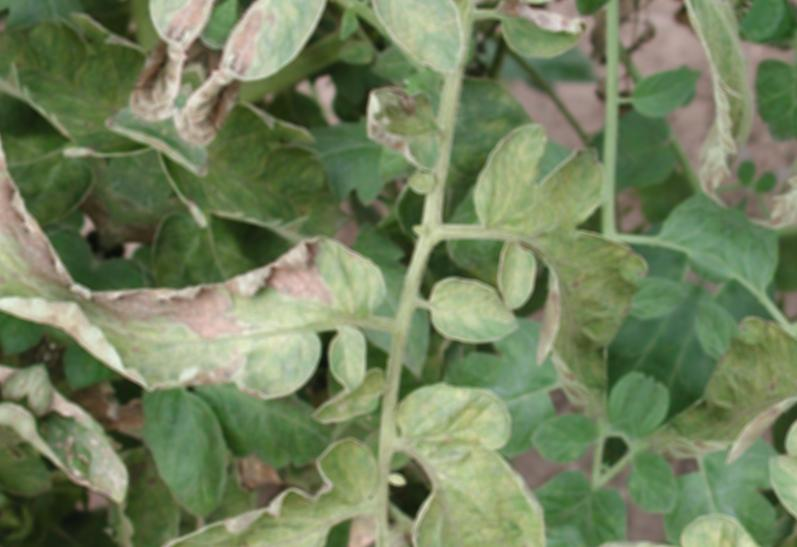Tomato mold leaf: (52, 142, 402, 473), (299, 351, 613, 547), (120, 368, 396, 547), (166, 0, 425, 183), (344, 0, 508, 94), (410, 249, 537, 368), (344, 68, 469, 184), (474, 219, 562, 321), (509, 0, 627, 34)
